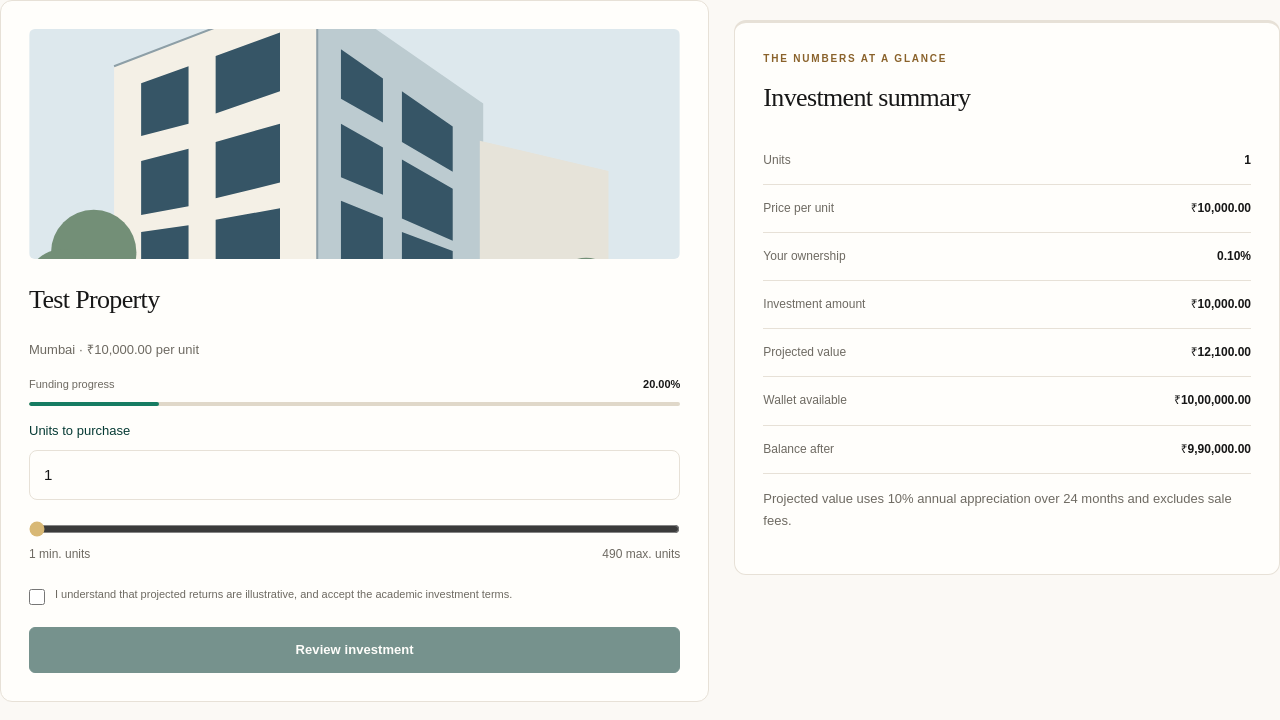
it: checkout safety and retry behavior › requires terms and a review modal, preserves idempotency after a network error
The image size is (1280, 720).
Check: the button "Review investment" is disabled, box left=29, top=627, right=680, bottom=673
Click the checkbox at (37, 597), box left=29, top=589, right=45, bottom=605
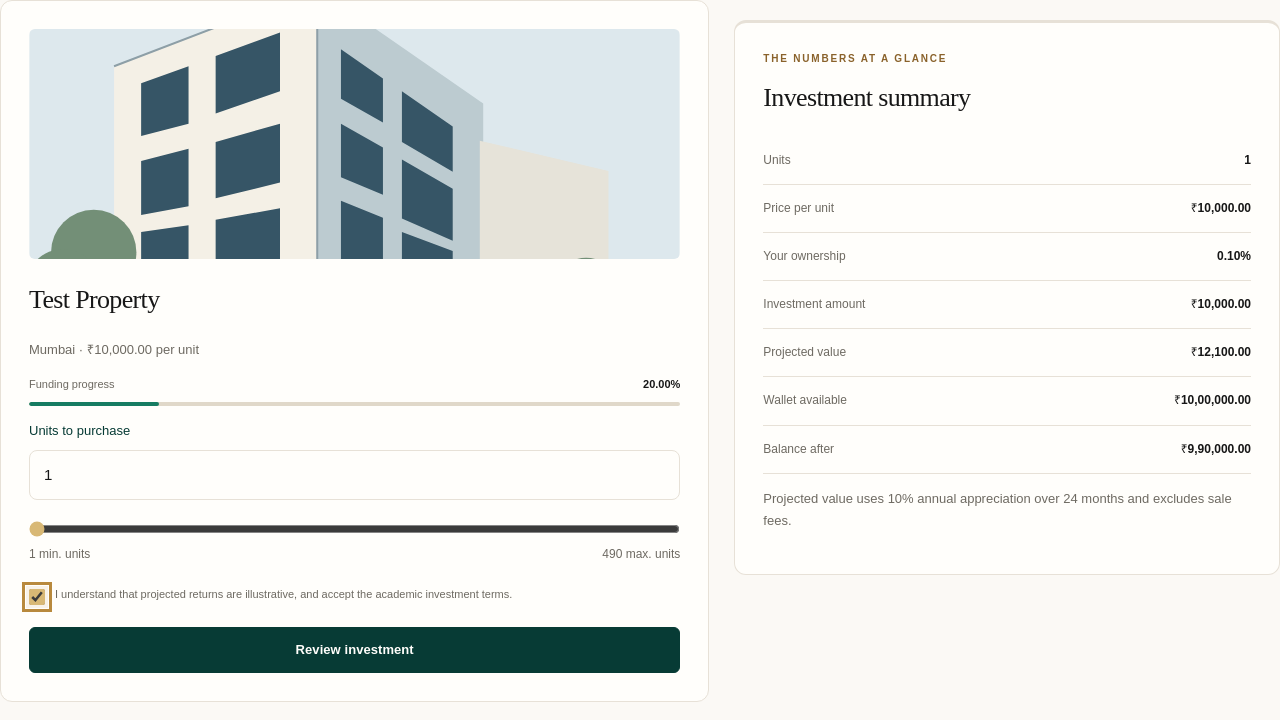
Click the button "Review investment" at (355, 650), box left=29, top=627, right=680, bottom=673
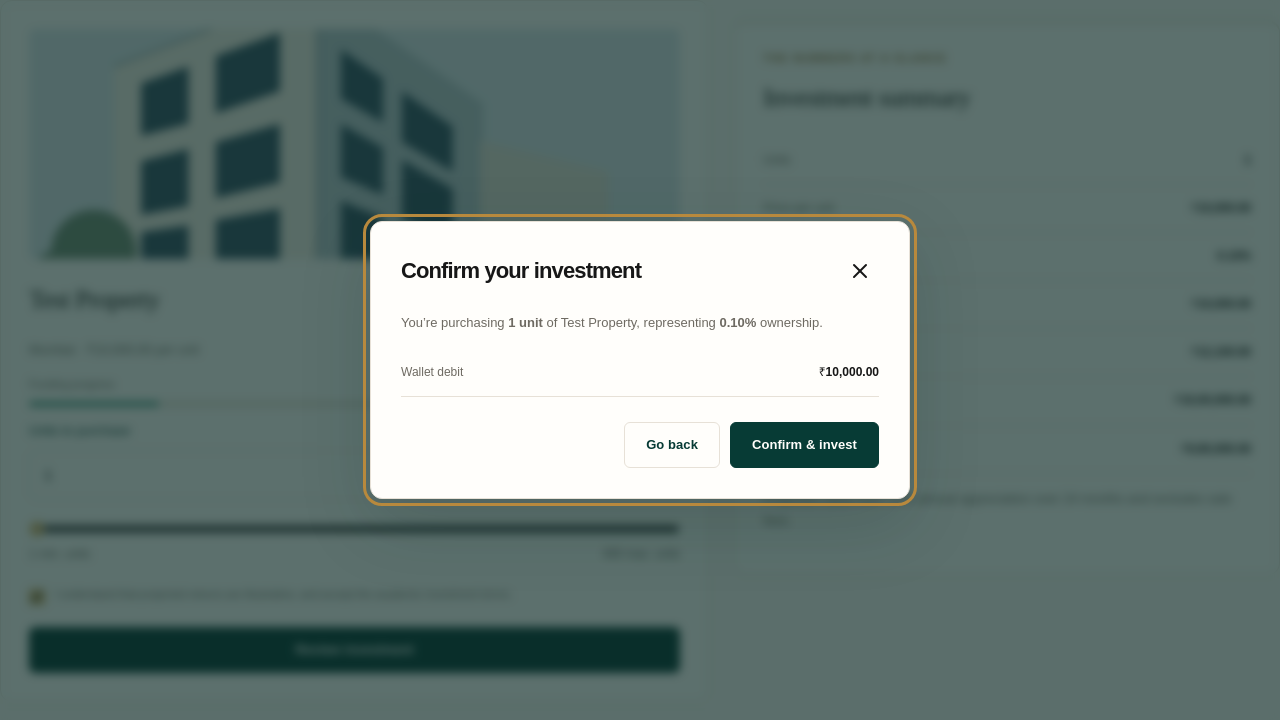
Check: the text "1 unit" is shown, box left=508, top=315, right=543, bottom=330
Check: the text "Test Property" is shown, box left=561, top=315, right=636, bottom=330
Click the button "Confirm & invest" at (804, 445), box left=730, top=422, right=879, bottom=468
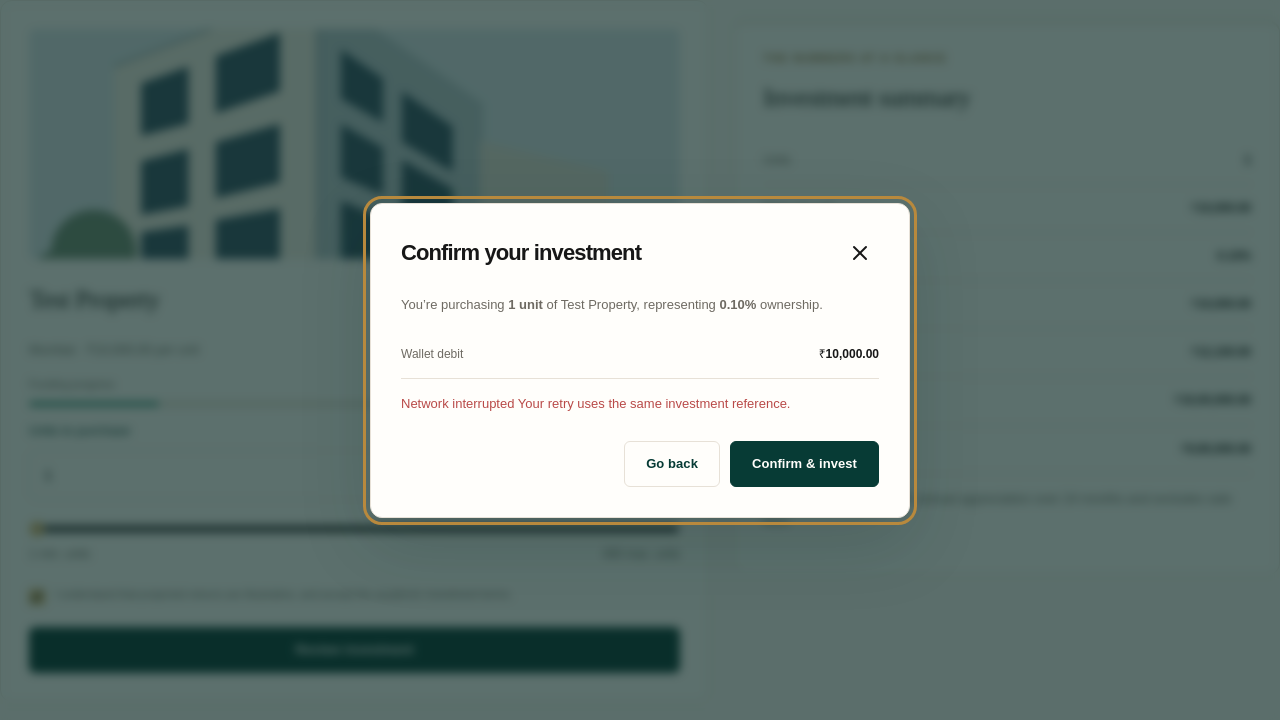
Check: the text "Your retry uses the same investment reference" is shown, box left=514, top=396, right=790, bottom=411
Click the button "Confirm & invest" at (804, 463), box left=730, top=440, right=879, bottom=486
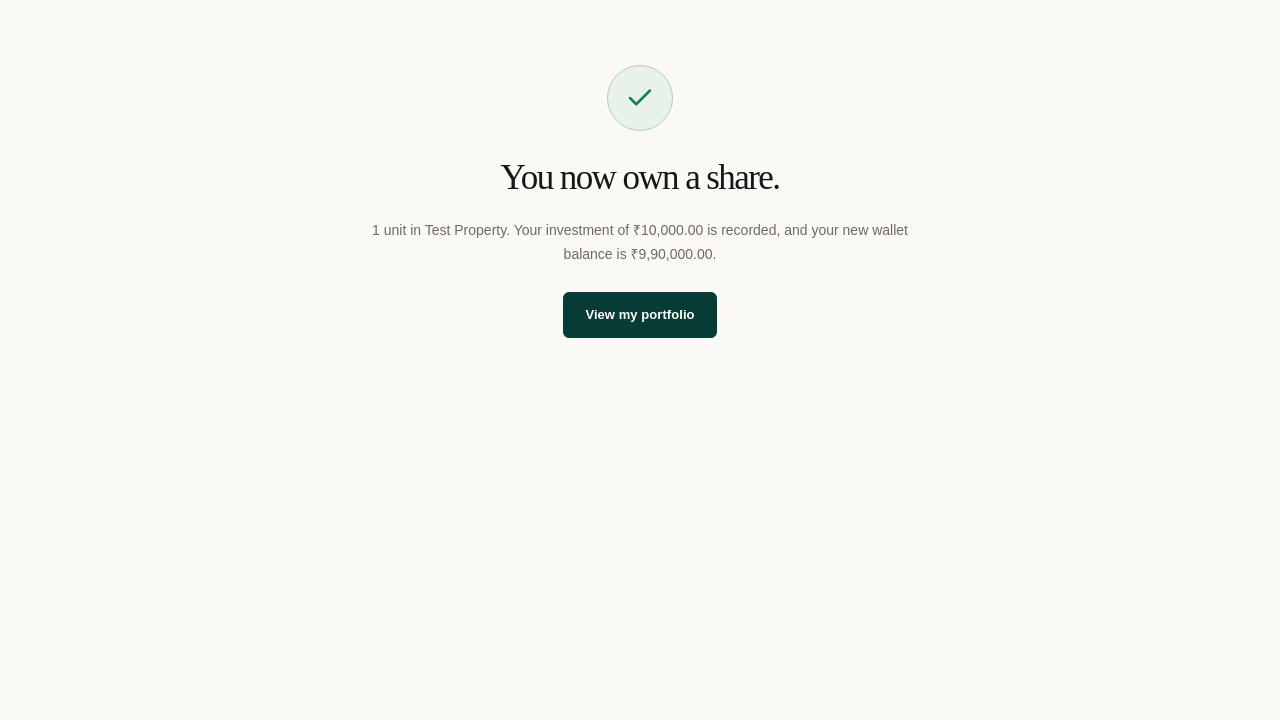
Check: the heading "You now own a share." is shown, box left=500, top=158, right=780, bottom=197
Check: the text "1 unit in Test Property" is shown, box left=372, top=222, right=908, bottom=262
